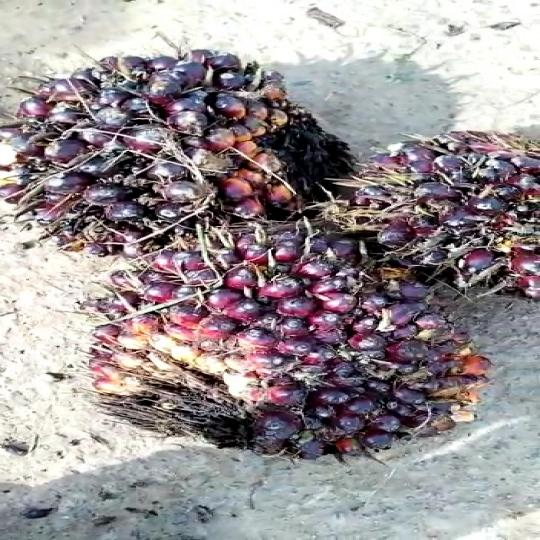kurang masak: (68, 225, 492, 468), (0, 51, 348, 243), (339, 134, 540, 306)
